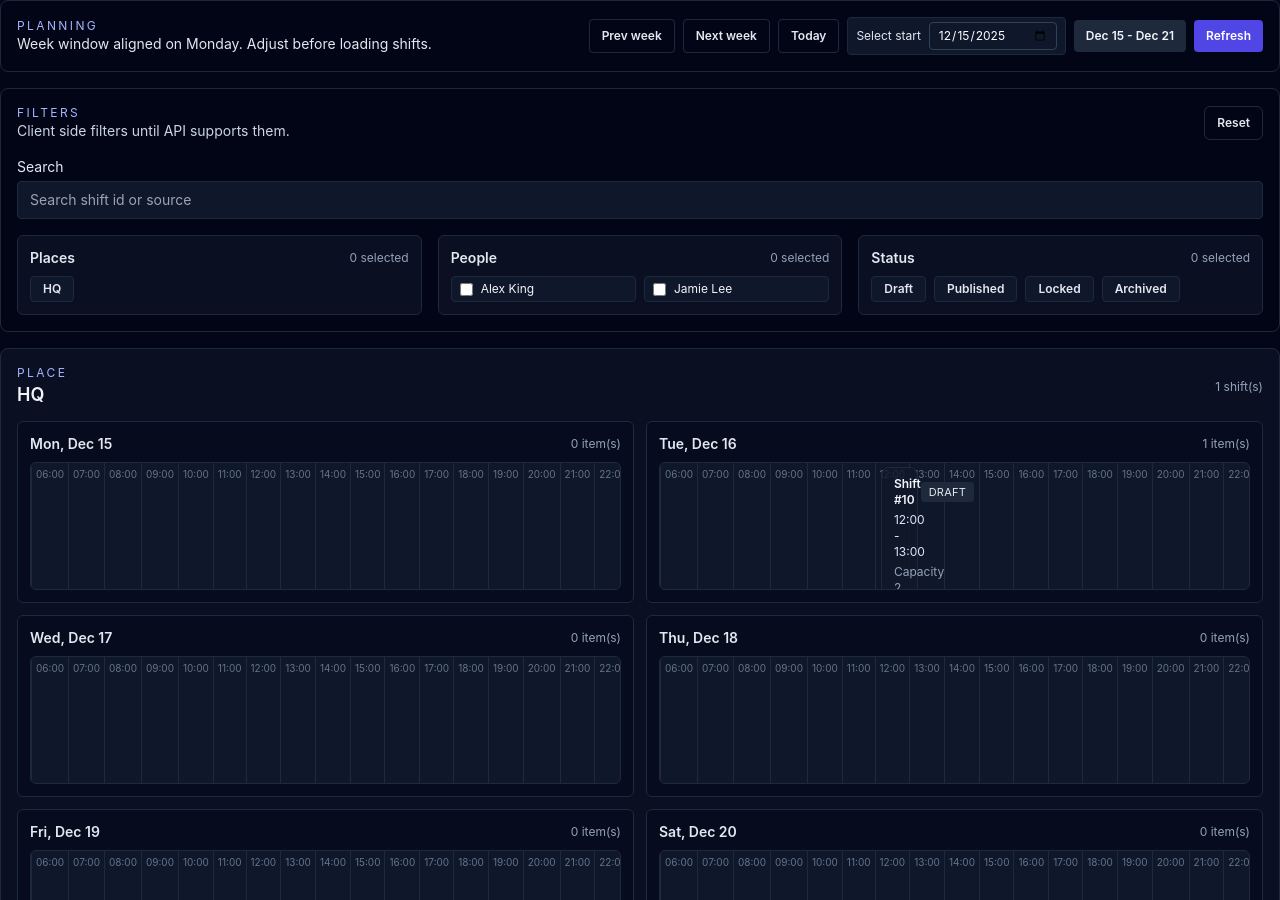
Test: PlanningPage › opens the editor when a shift is selected
Step 1. Click the button "Shift #10" → x=899, y=554, box 881,467 -> 918,641
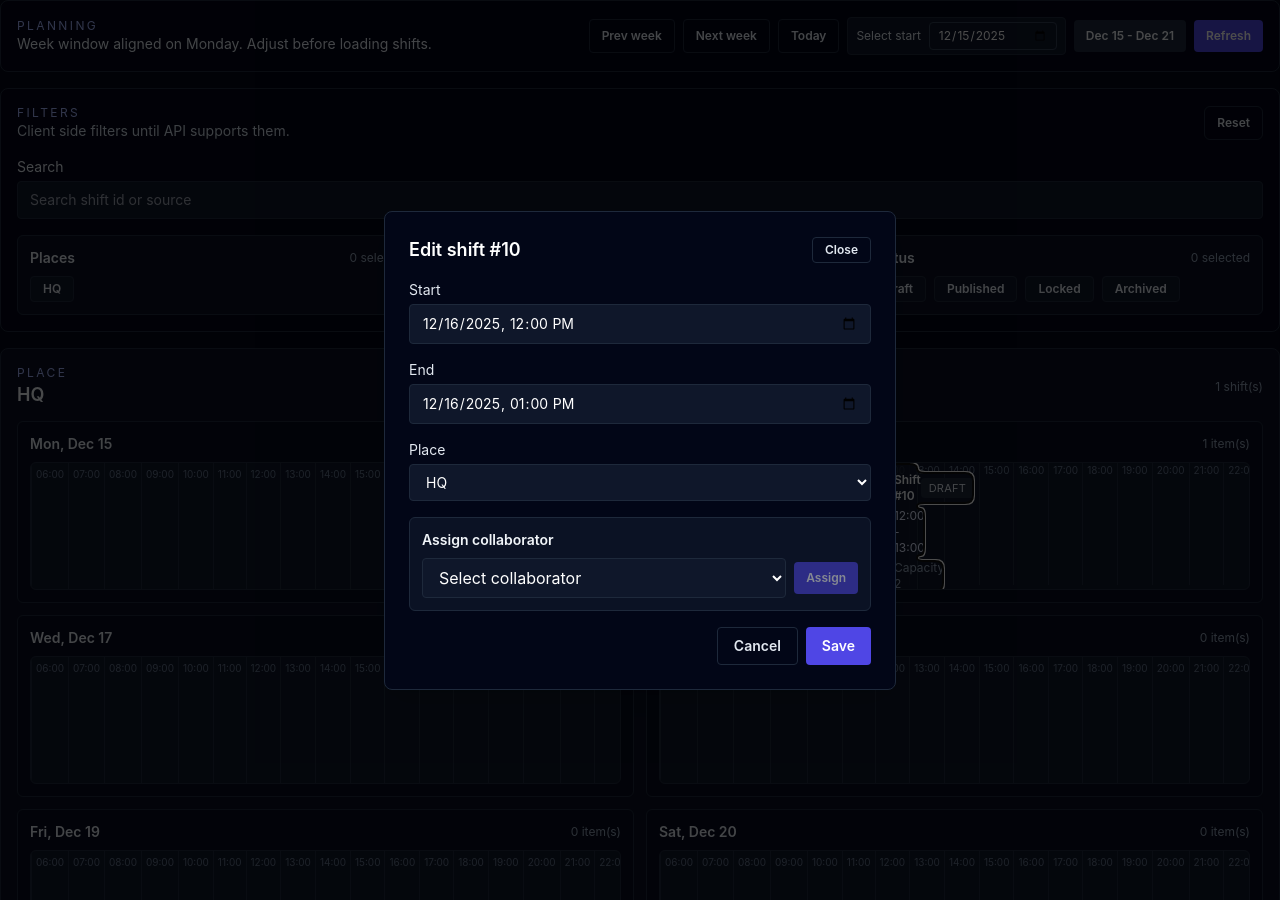
Now the heading "Edit shift #10" is shown, box 409,236 -> 521,264
